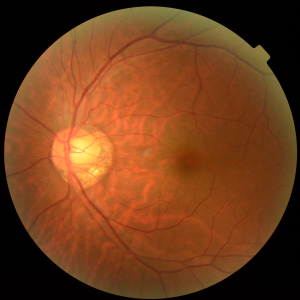healthy_eye: (35, 99, 255, 209)
